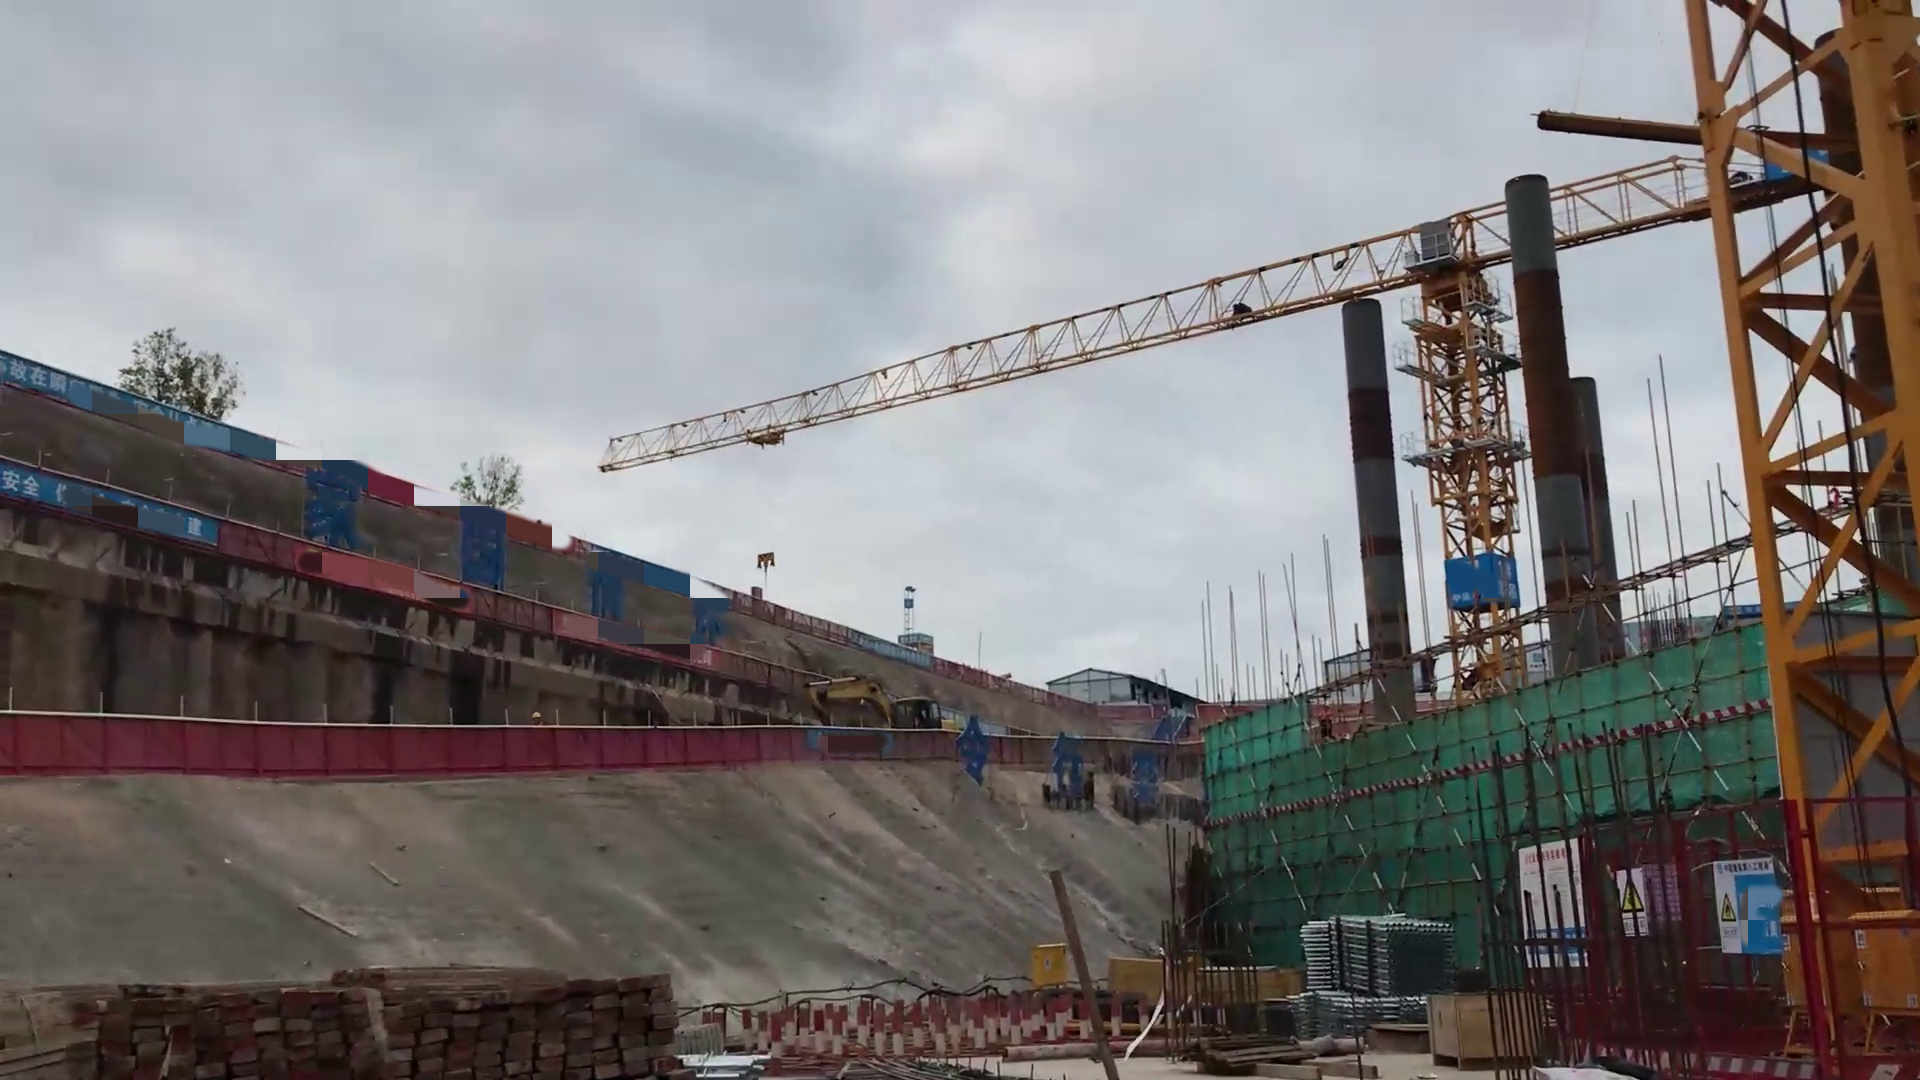ebox: (1779, 909, 1855, 1025), (1855, 905, 1915, 1021), (1030, 942, 1069, 990)
fence: (1, 698, 200, 793)
hook: (756, 549, 777, 576)
scaffold: (1307, 909, 1451, 1000)
slogan: (7, 344, 291, 464), (1, 467, 233, 556), (1702, 831, 1796, 967), (1522, 835, 1614, 965), (1611, 857, 1665, 935)
wood: (94, 971, 703, 1077), (1422, 986, 1553, 1063), (1207, 961, 1298, 1005)
